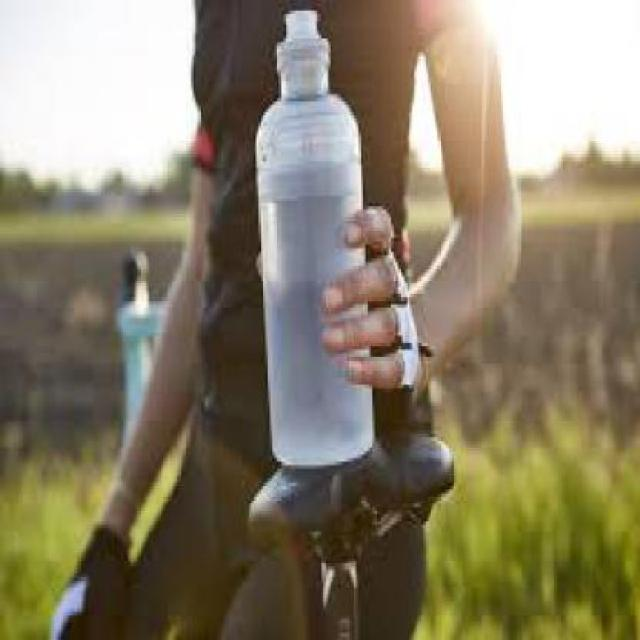Drinking: (255, 4, 375, 479)
